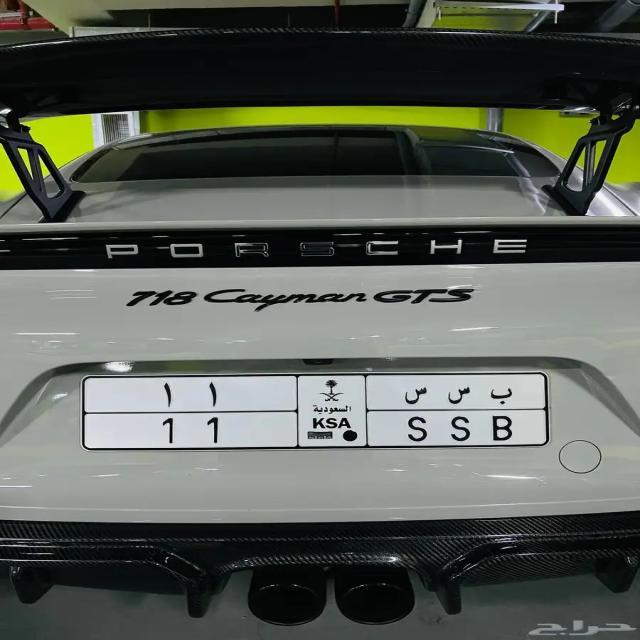license_plate: (91, 410, 551, 450)
